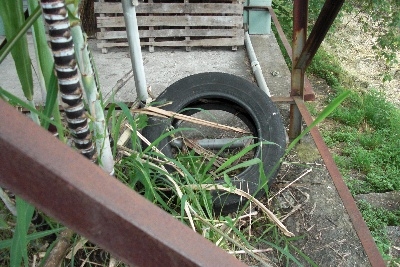tire: (139, 70, 289, 216)
